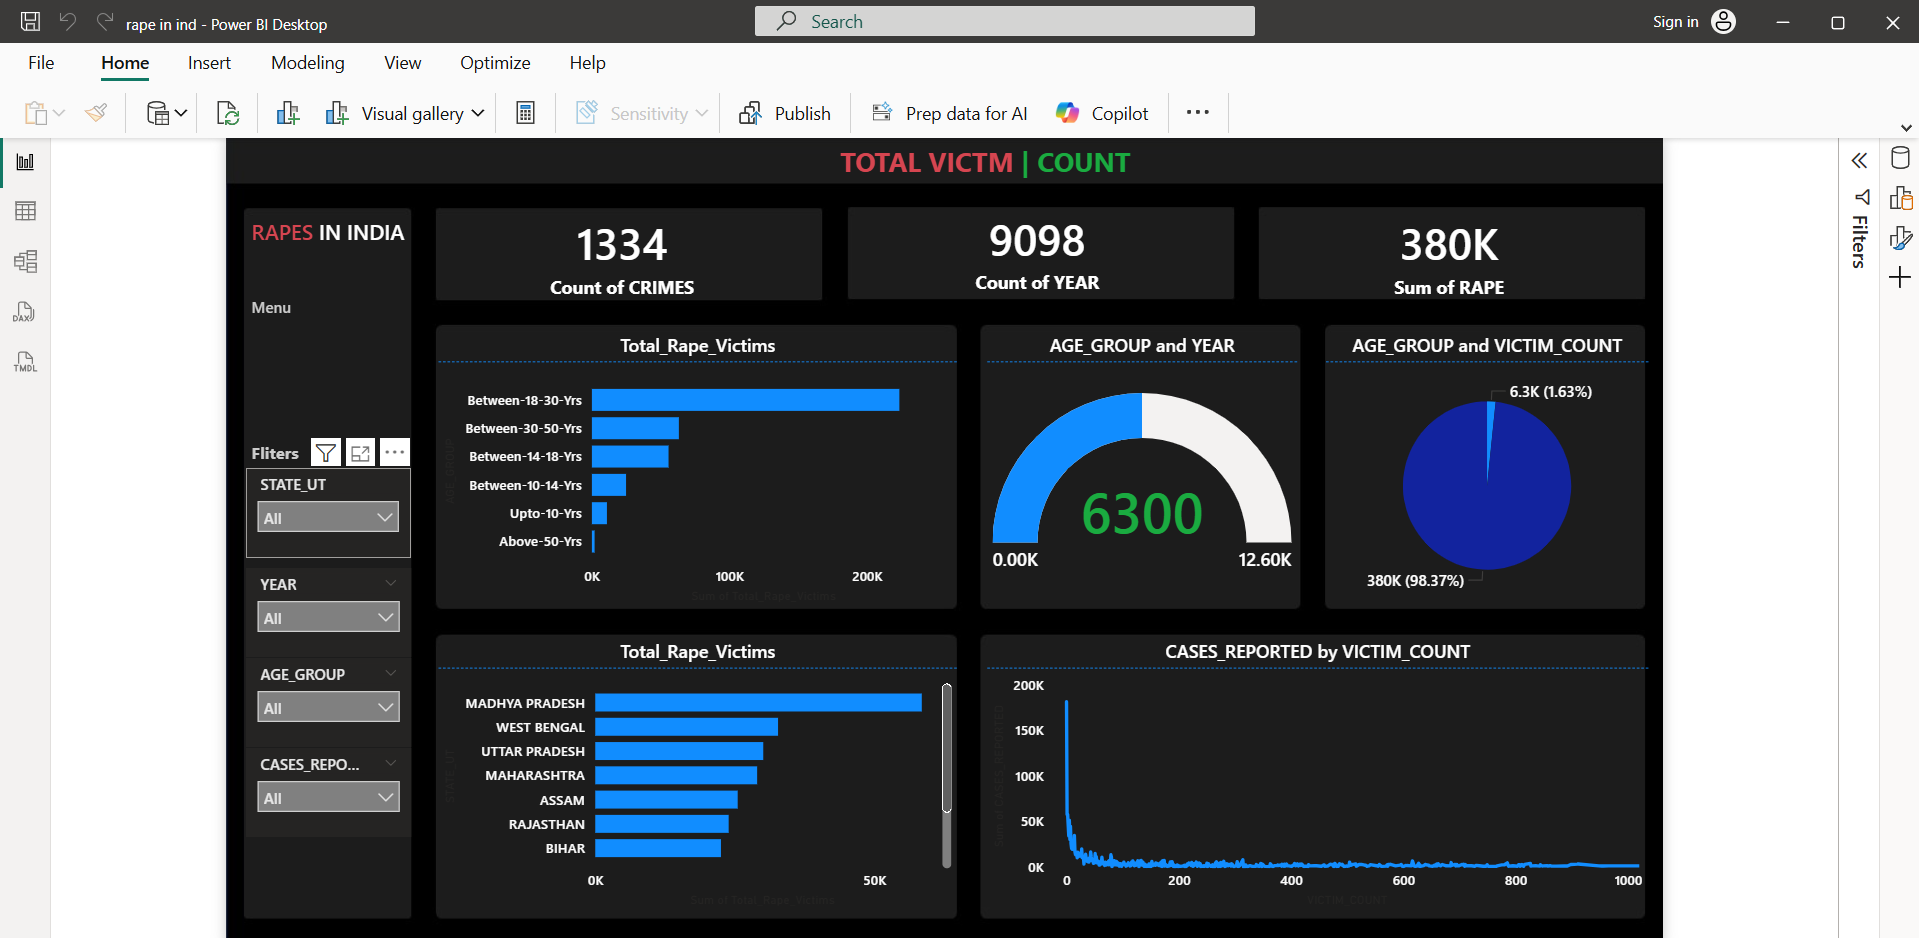

Layout of this report page (visuals, bound fields, positions):
{"tool":"powerbi","page":{"name":"Page 3","canvas":[1280,720],"ordinal":2},"visuals":[{"type":"barChart","title":"Total_Rape_Victims","fields":{"Category":["VICTIMS_OF_RAPE.AGE_GROUP"],"Y":["Sum(VICTIMS_OF_RAPE.Total_Rape_Victims)"]},"box":[189.2,172.5,462,244.9],"z":0},{"type":"card","fields":{"Values":["CountNonNull(CRIMES BY PLACES.YEAR)"]},"box":[548.8,57.9,347.3,90.2],"z":1000},{"type":"clusteredBarChart","title":"Total_Rape_Victims","fields":{"Category":["VICTIMS_OF_RAPE.STATE_UT"],"Y":["Sum(VICTIMS_OF_RAPE.Total_Rape_Victims)"]},"box":[189.2,445.3,462,242.7],"z":2000},{"type":"card","fields":{"Values":["Count(CRIMES BY PLACES.CRIMES)"]},"box":[182.6,65.7,340.6,82.4],"z":3000},{"type":"lineChart","title":"CASES_REPORTED by VICTIM_COUNT","fields":{"Category":["VICTIMS_OF_RAPE.VICTIM_COUNT"],"Y":["Sum(VICTIMS_OF_RAPE.CASES_REPORTED)"]},"box":[677.9,445.3,588.9,242.7],"z":4000},{"type":"card","fields":{"Values":["Sum(DISTRICT_WISE_CRIMES.RAPE)"]},"box":[918.4,65.7,341.7,82.4],"z":5000},{"type":"pieChart","title":" AGE_GROUP and VICTIM_COUNT","fields":{"Y":["CountNonNull(VICTIMS_OF_RAPE.AGE_GROUP)","Sum(VICTIMS_OF_RAPE.VICTIM_COUNT)"]},"box":[979.6,172.5,287.2,244.9],"z":6000},{"type":"gauge","title":"AGE_GROUP and YEAR","fields":{"Y":["CountNonNull(VICTIMS_OF_RAPE.AGE_GROUP)"],"TargetValue":["Sum(VICTIMS_OF_RAPE.YEAR)"]},"box":[677.9,172.5,276.1,244.9],"z":7000},{"type":"slicer","fields":{"Values":["VICTIMS_OF_RAPE.STATE_UT"]},"box":[18,293.6,146.2,80.3],"z":8000},{"type":"slicer","fields":{"Values":["JUVENILE_APPREHENDED.YEAR"]},"box":[17.8,382.9,146.9,79],"z":9000},{"type":"slicer","fields":{"Values":["JUVENILE_APPREHENDED.AGE_GROUP"]},"box":[17.8,463.1,146.9,79],"z":10000},{"type":"slicer","fields":{"Values":["VICTIMS_OF_RAPE.CASES_REPORTED"]},"box":[17.8,543.2,146.9,79],"z":11000},{"type":"textbox","box":[17.8,264.9,55.7,37.8],"z":12000},{"type":"textbox","box":[17.8,65.7,146.9,59],"z":13000},{"type":"textbox","box":[17.8,136.9,64.6,39],"z":14000},{"type":"textbox","box":[541.7,0,273.3,76.7],"z":15000}]}

Visuals, with their boxes on the page's 1280x720 design canvas (x1, y1, x2, y2). These are canvas units, not pixel positions in the 1919x938 screenshot, which may show the page scaled, cropped or inside an application window:
"Total_Rape_Victims" barChart: 189,172,651,417
card - CountNonNull(CRIMES BY PLACES.YEAR): 549,58,896,148
"Total_Rape_Victims" clusteredBarChart: 189,445,651,688
card - Count(CRIMES BY PLACES.CRIMES): 183,66,523,148
"CASES_REPORTED by VICTIM_COUNT" lineChart: 678,445,1267,688
card - Sum(DISTRICT_WISE_CRIMES.RAPE): 918,66,1260,148
" AGE_GROUP and VICTIM_COUNT" pieChart: 980,172,1267,417
"AGE_GROUP and YEAR" gauge: 678,172,954,417
slicer - VICTIMS_OF_RAPE.STATE_UT: 18,294,164,374
slicer - JUVENILE_APPREHENDED.YEAR: 18,383,165,462
slicer - JUVENILE_APPREHENDED.AGE_GROUP: 18,463,165,542
slicer - VICTIMS_OF_RAPE.CASES_REPORTED: 18,543,165,622
textbox: 18,265,74,303
textbox: 18,66,165,125
textbox: 18,137,82,176
textbox: 542,0,815,77
